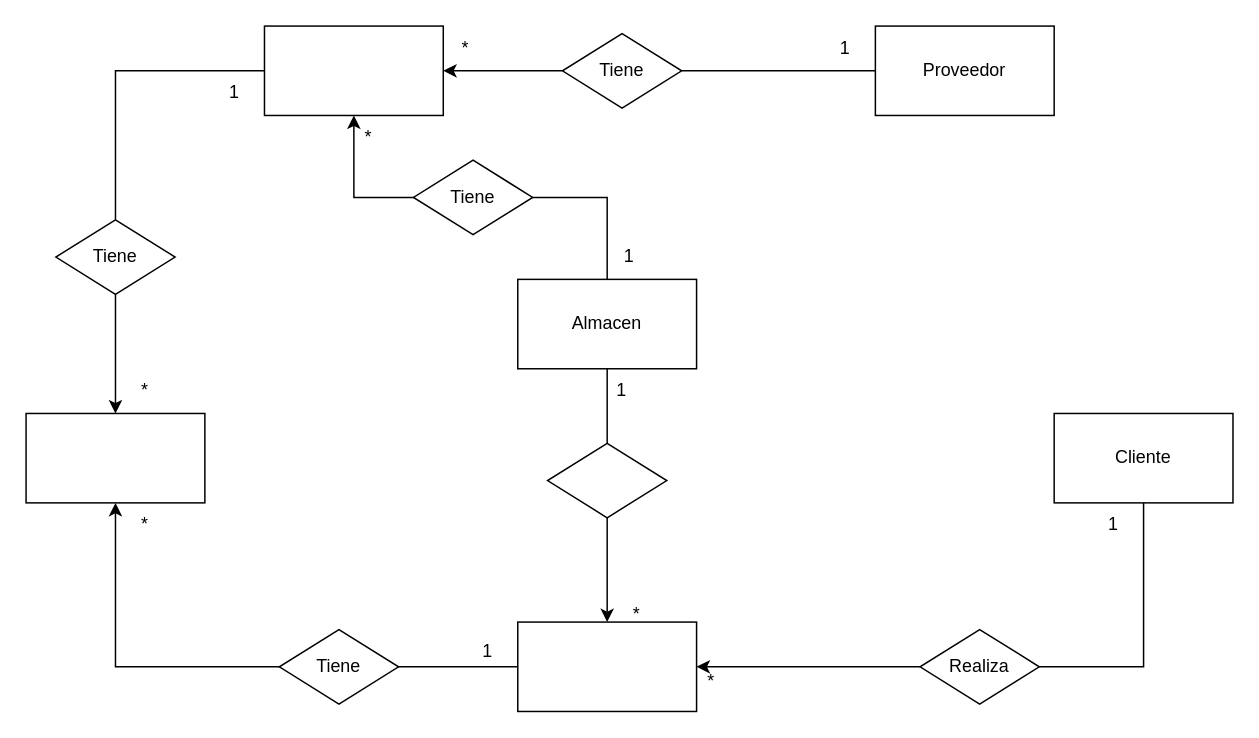
Some shapes in this 1259 by 738 pixel diagram are drawn without their labels. The centre of each missing label's shape, as x and y in pixels:
"Detalle_Pedido" goes at point (115, 457).
"Gestiona" goes at point (606, 480).
"Pedido" goes at point (606, 666).
"Producto" goes at point (353, 70).
